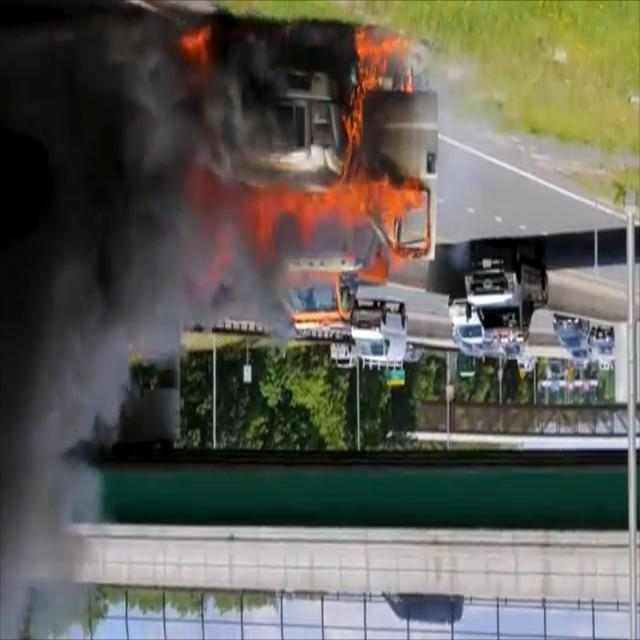fire: (165, 16, 427, 263)
